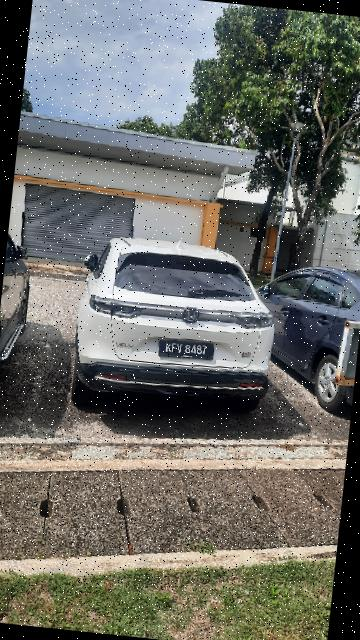License_Plate: (154, 338, 218, 366)
car: (66, 229, 285, 422)
